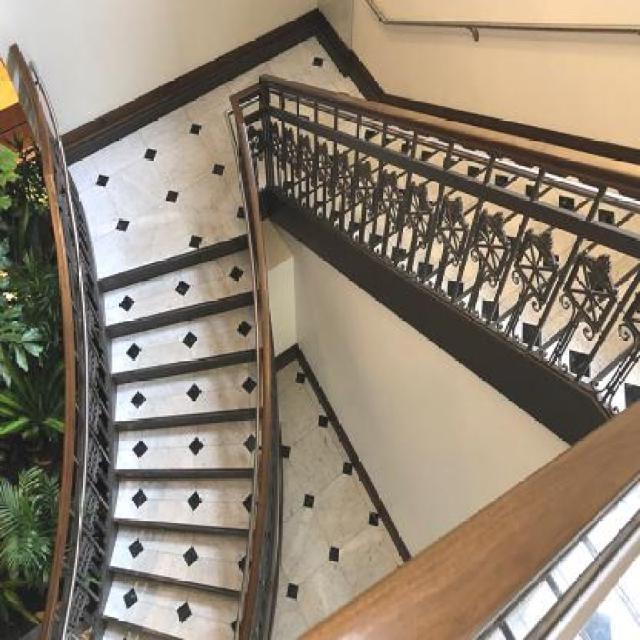stair: (27, 133, 298, 639)
